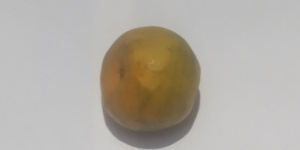BAD: (100, 27, 200, 132)
